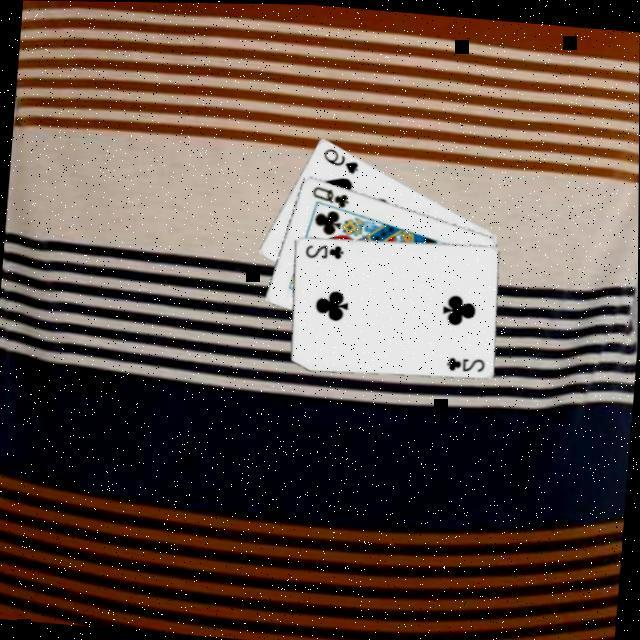2C: (300, 238, 344, 262), (441, 352, 485, 374)
9S: (316, 143, 361, 177)
QC: (306, 182, 351, 210)
